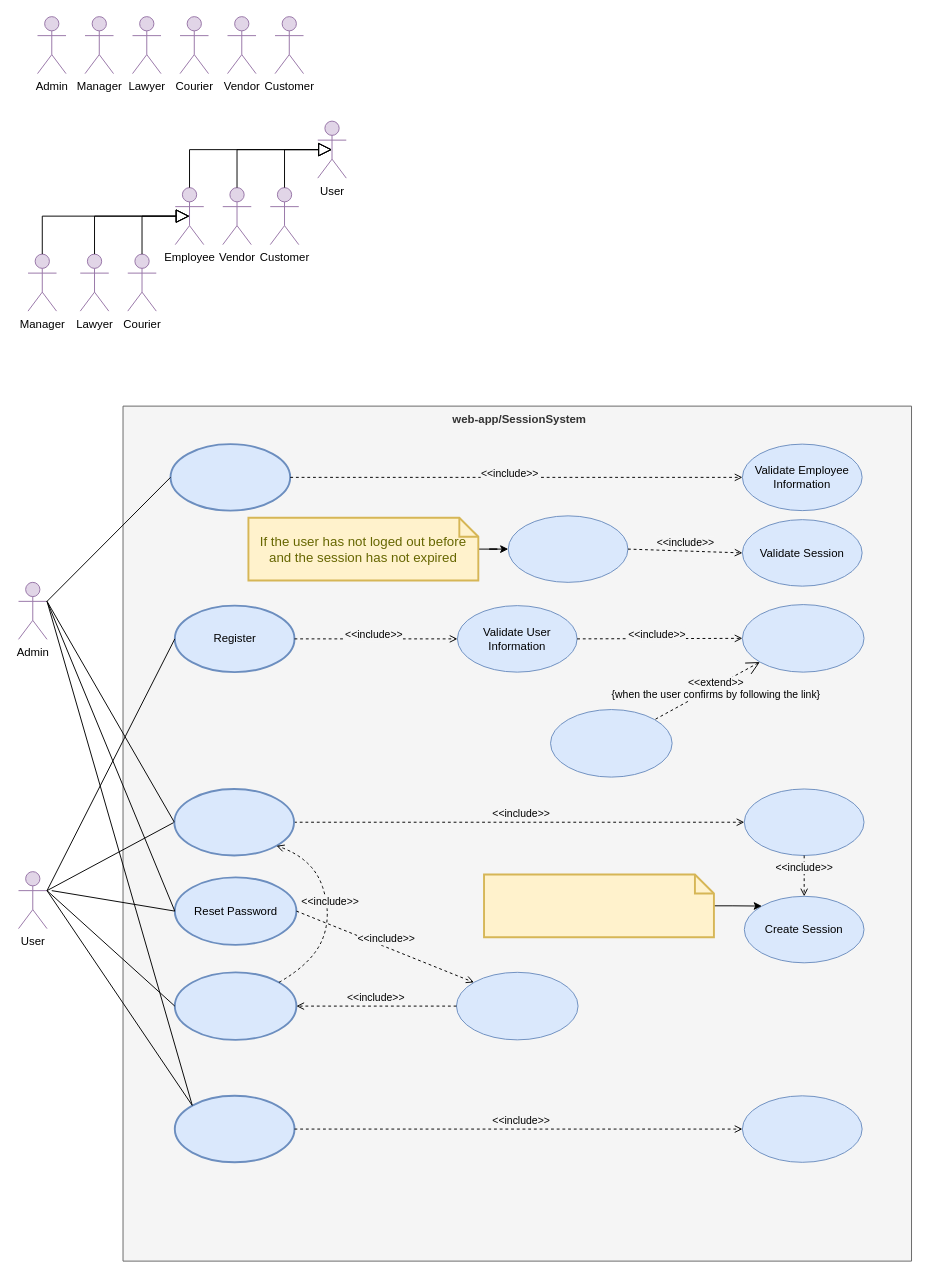
This 928x1278 diagram has some shape labels left out. Here are the shapes that lost their labels. From the top down, the centre of each, then its label:
At [230,477]: "Register Employee".
At [567,548]: "Login with Session".
At [802,638]: "Send Verify Link via email".
At [611,743]: "Create Account".
At [233,822]: "Login with Password".
At [803,821]: "Authenticate User Account".
At [598,905]: "This is used for automatic login".
At [235,1005]: "Enter New Password".
At [517,1005]: "Send Reset Link via email".
At [234,1128]: "Logout".
At [801,1128]: "Destroy Session".
